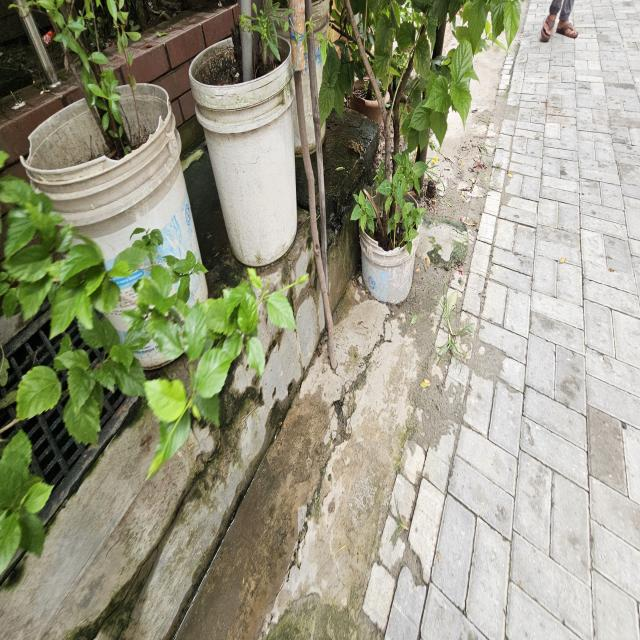artificial_container: (187, 28, 300, 271), (354, 193, 423, 309)
